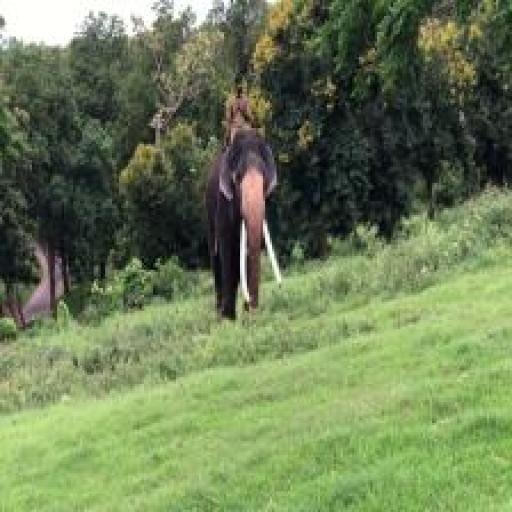Elephant: (201, 128, 286, 325)
